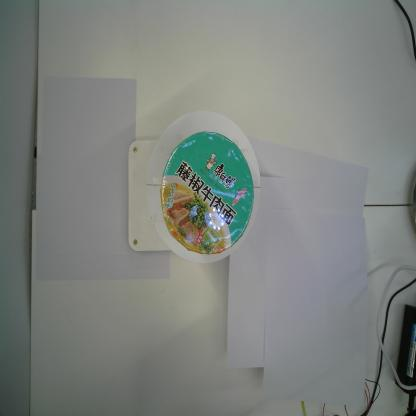Instant Noodles: (160, 131, 255, 255)
